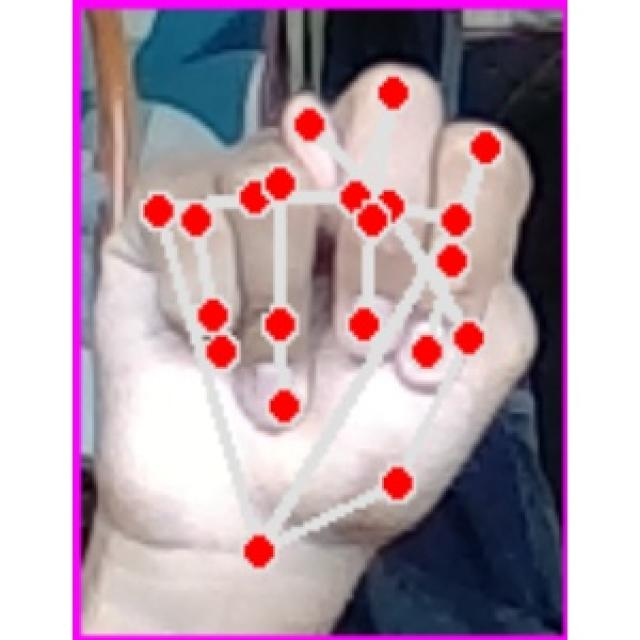N: (92, 41, 545, 582)
